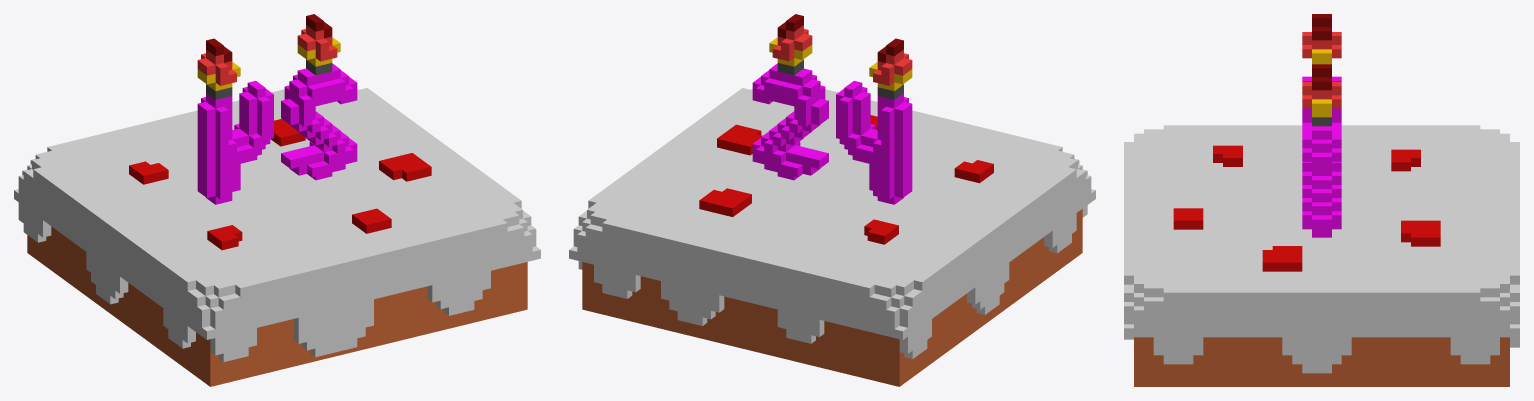
3 renders of one model, left to right at view 1: azimuth 30°, elevation 25°; view 2: azimuth 150°, elevation 25°; view 3: azimuth 270°, elevation 25°, orthographic. The views are drawn at different scales.
Parts seen in each view (by area): view 1: _0; view 2: _0; view 3: _0.
Boxes of the visible parts, box(x1,y1,x2,y2) form: _0: box(14, 14, 540, 386); _0: box(569, 14, 1095, 386); _0: box(1124, 14, 1519, 386).
Size of the model in its own units: 0.06 by 0.0435 by 0.06.
